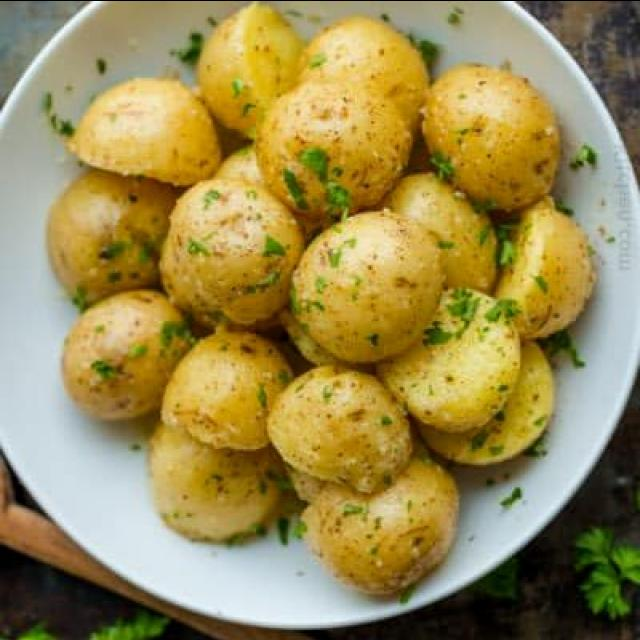kentang rebus: (376, 283, 576, 461), (162, 144, 306, 330), (258, 80, 416, 238), (291, 210, 445, 363), (422, 61, 563, 224), (269, 362, 419, 496), (46, 166, 182, 307), (61, 290, 198, 422), (66, 75, 224, 186), (162, 325, 299, 450)
